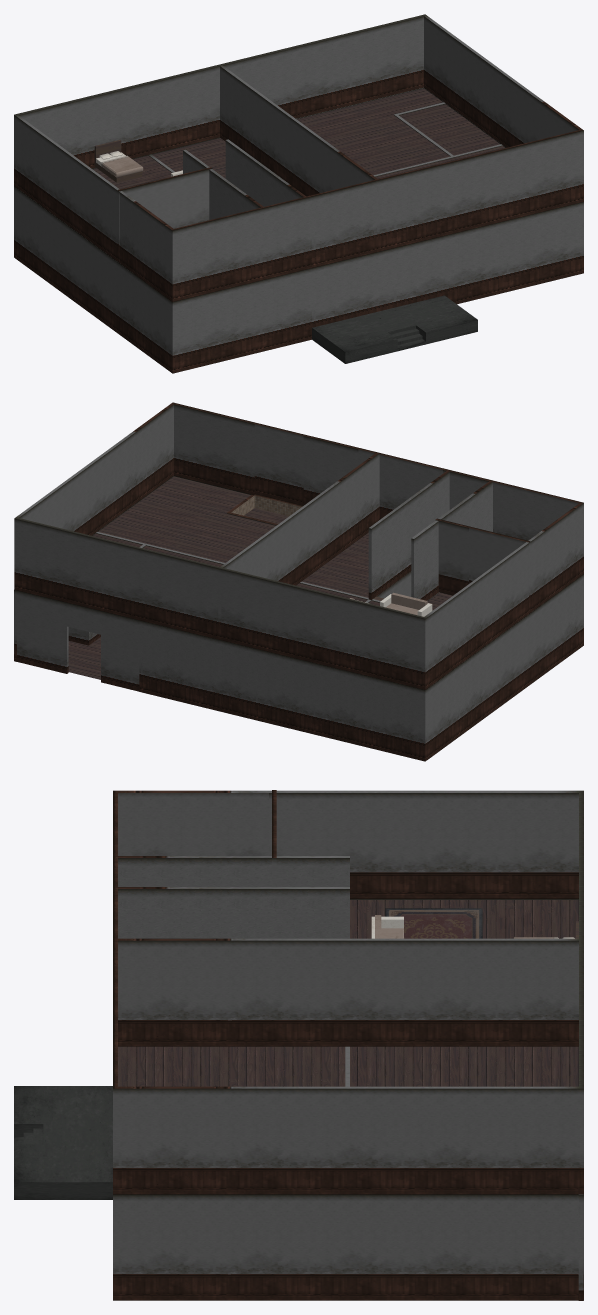
File: map10.glb
3 views of the same model, one above another, from view 1: azimuth 30°, elevation 25°; view 2: azimuth 150°, elevation 25°; view 3: azimuth 270°, elevation 25° (orthographic). The views are drawn at different scales.
Visible parts, largest first — view 1: object 43, object 153, object 40, object 143, object 138, object 137, object 33, object 30, object 157, object 144, object 141, object 155 (+7 smaller); view 2: object 43, object 142, object 153, object 40, object 143, object 138, object 141, object 144, object 28, object 159, object 157, object 137 (+5 smaller); view 3: object 144, object 141, object 36, object 40, object 153, object 159, object 25, object 34, object 119, object 43, object 151.
Boxes of the visible parts, x1,y1,x2,y2 form: object 43: [14, 15, 423, 186]; object 153: [92, 88, 504, 188]; object 40: [15, 115, 175, 301]; object 143: [15, 187, 175, 373]; object 138: [444, 130, 580, 235]; object 137: [174, 195, 311, 301]; object 33: [175, 268, 311, 372]; object 30: [444, 202, 580, 304]; object 157: [311, 163, 444, 267]; object 144: [423, 14, 583, 202]; object 141: [218, 64, 379, 252]; object 155: [311, 236, 444, 335]; object 43: [17, 518, 426, 689]; object 142: [139, 620, 426, 761]; object 153: [93, 476, 452, 610]; object 40: [424, 502, 583, 688]; object 143: [427, 574, 583, 759]; object 138: [174, 403, 310, 506]; object 141: [218, 452, 379, 640]; object 144: [14, 402, 175, 590]; object 28: [14, 590, 139, 691]; object 159: [368, 470, 449, 599]; object 157: [310, 436, 444, 519]; object 137: [443, 469, 580, 540]; object 144: [113, 1086, 583, 1194]; object 141: [113, 938, 583, 1046]; object 36: [113, 1194, 583, 1300]; object 40: [113, 790, 578, 898]; object 153: [118, 900, 578, 1086]; object 159: [116, 887, 349, 938]; object 25: [14, 1086, 112, 1199]; object 34: [116, 856, 349, 886]; object 119: [385, 908, 482, 938]; object 43: [579, 790, 583, 1086]; object 151: [371, 915, 403, 938].
Size of the model in its own units: 85.5 by 29.46 by 69.09.
37 materials, 36 textured.
